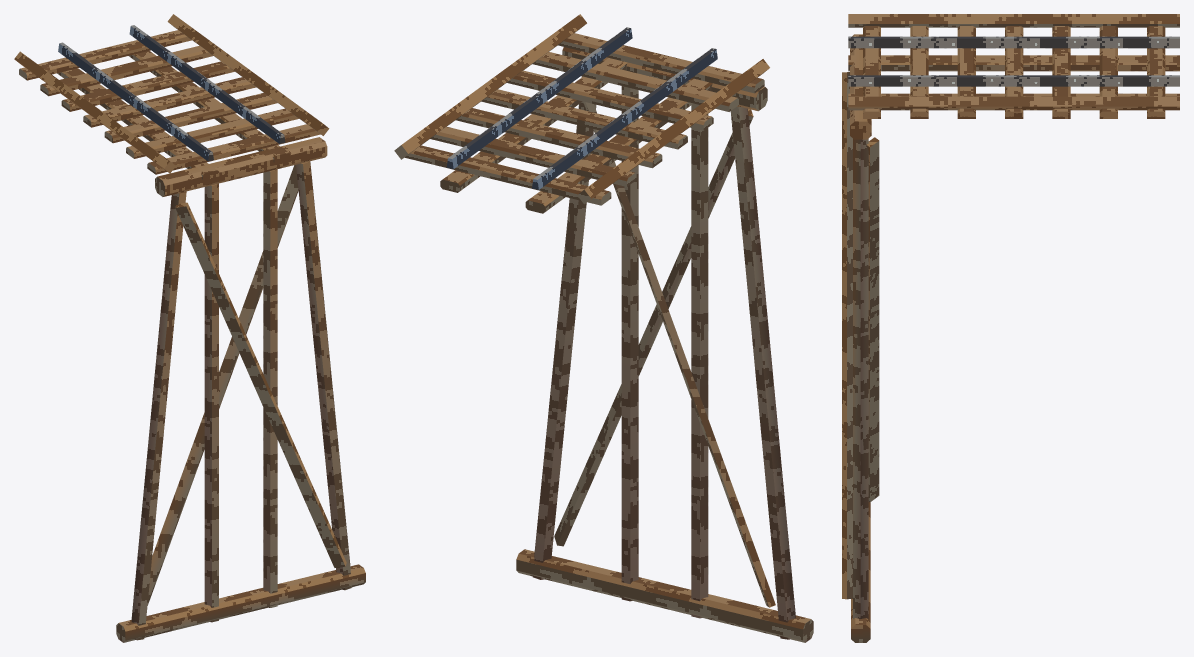
The model's file is wrail.trestle__tall.glb.
The picture shows the model from 3 angles, left to right: view 1: azimuth 30°, elevation 25°; view 2: azimuth 150°, elevation 25°; view 3: azimuth 270°, elevation 25°; orthographic projection. The views are drawn at different scales.
Parts seen in each view (by area): view 1: kit_bents, kit_ties, kit_braces, kit_sills, kit_rails, kit_guards, kit_caps, kit_stringers; view 2: kit_bents, kit_ties, kit_braces, kit_sills, kit_rails, kit_guards, kit_stringers, kit_caps; view 3: kit_braces, kit_guards, kit_rails, kit_ties, kit_bents, kit_stringers, kit_caps, kit_sills.
Boxes of the visible parts, left/top/right/bottom form: kit_bents: left=131, top=161, right=352, bottom=640; kit_ties: left=19, top=30, right=320, bottom=174; kit_braces: left=147, top=165, right=346, bottom=605; kit_sills: left=116, top=564, right=365, bottom=642; kit_rails: left=58, top=25, right=285, bottom=161; kit_guards: left=14, top=14, right=329, bottom=173; kit_caps: left=155, top=137, right=327, bottom=196; kit_stringers: left=57, top=51, right=290, bottom=181; kit_bents: left=532, top=76, right=795, bottom=639; kit_ties: left=405, top=33, right=764, bottom=205; kit_braces: left=554, top=101, right=775, bottom=607; kit_sills: left=516, top=549, right=813, bottom=642; kit_rails: left=446, top=27, right=717, bottom=189; kit_guards: left=394, top=14, right=769, bottom=204; kit_stringers: left=440, top=58, right=712, bottom=213; kit_caps: left=562, top=47, right=767, bottom=111; kit_braces: left=842, top=72, right=879, bottom=599; kit_guards: left=848, top=14, right=1179, bottom=110; kit_rails: left=848, top=36, right=1179, bottom=86; kit_ties: left=863, top=26, right=1165, bottom=118; kit_bents: left=853, top=139, right=868, bottom=619; kit_stringers: left=848, top=55, right=1179, bottom=96; kit_caps: left=850, top=34, right=871, bottom=139; kit_sills: left=851, top=502, right=870, bottom=642.
Bounding box in the file's own units: 3.7 × 6.97 × 4.07.
2 materials, 2 textured.
